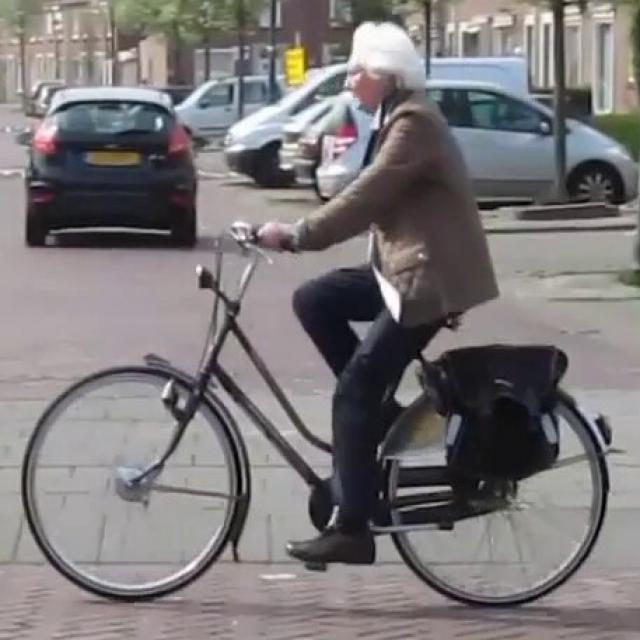car: (17, 210, 628, 610)
